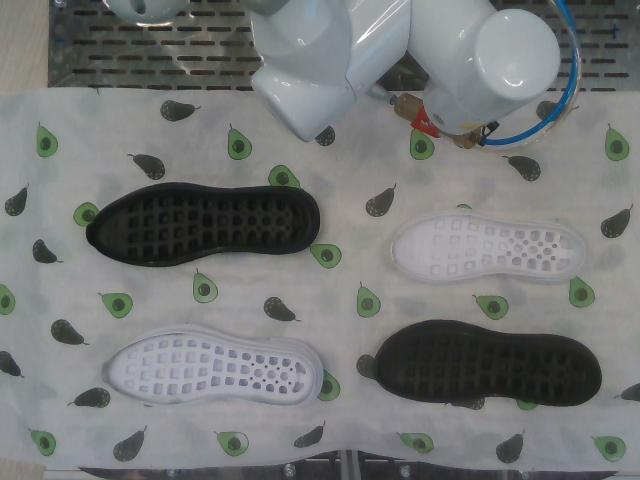shoes: (375, 331, 601, 405), (87, 189, 308, 262), (102, 333, 315, 406), (391, 214, 585, 279)
